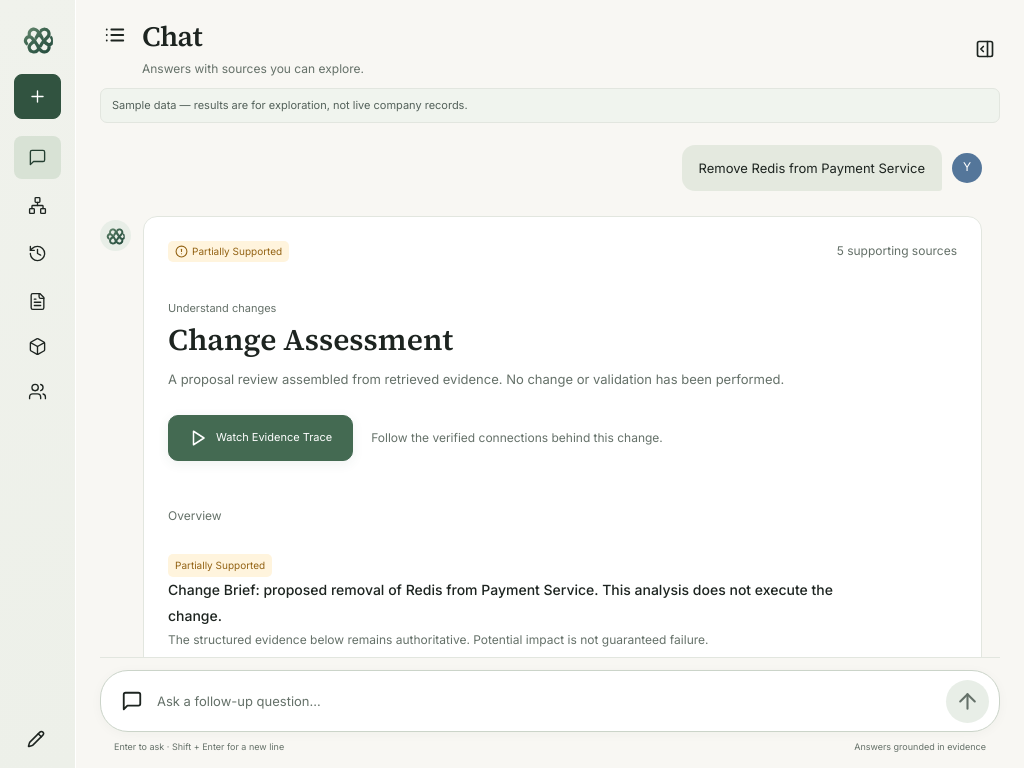
Test case: Trace Mode in persistent conversations › chooses an actual remaining sequence when architecture playback was not returned
Expected: the button named "New Chat" is enabled, 14,74 -> 61,119
Click the button "Watch Evidence Trace" at (261, 438), box 168,415 -> 353,461
(page scrolled)
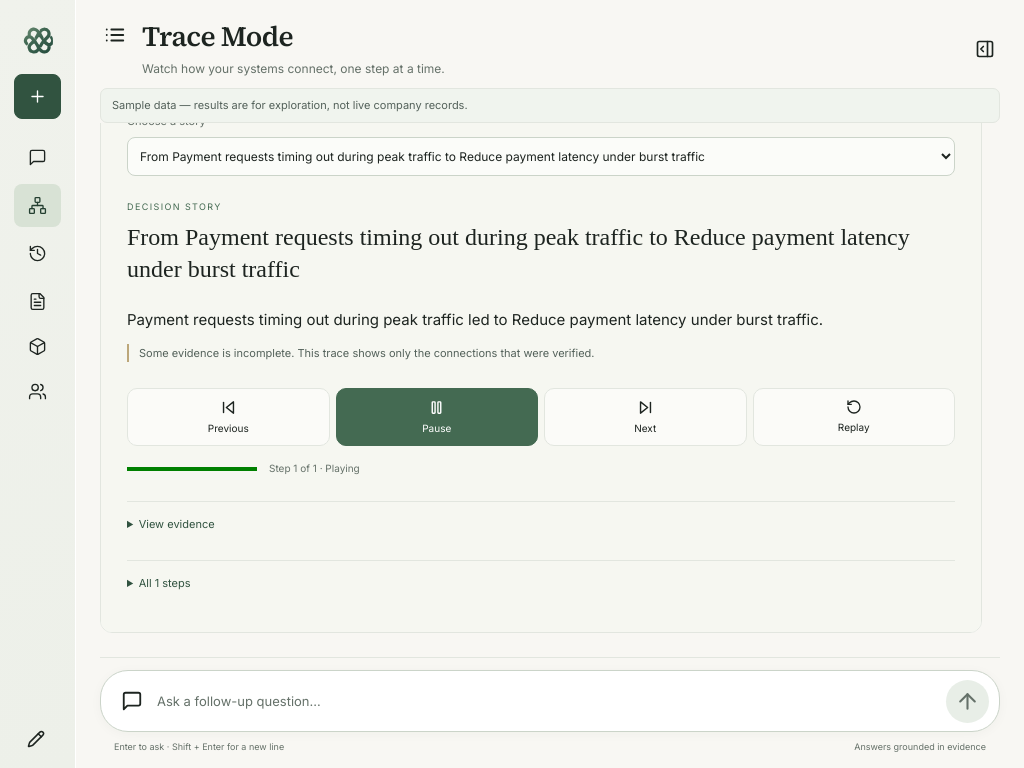
Result: the dropdown named "Trace sequence" shows "From Payment requests timing out during peak traffic to Reduce payment latency u" at 127,138 -> 955,176
Result: the text "Step 1 of 1 · Playing" is shown at 269,461 -> 360,477
